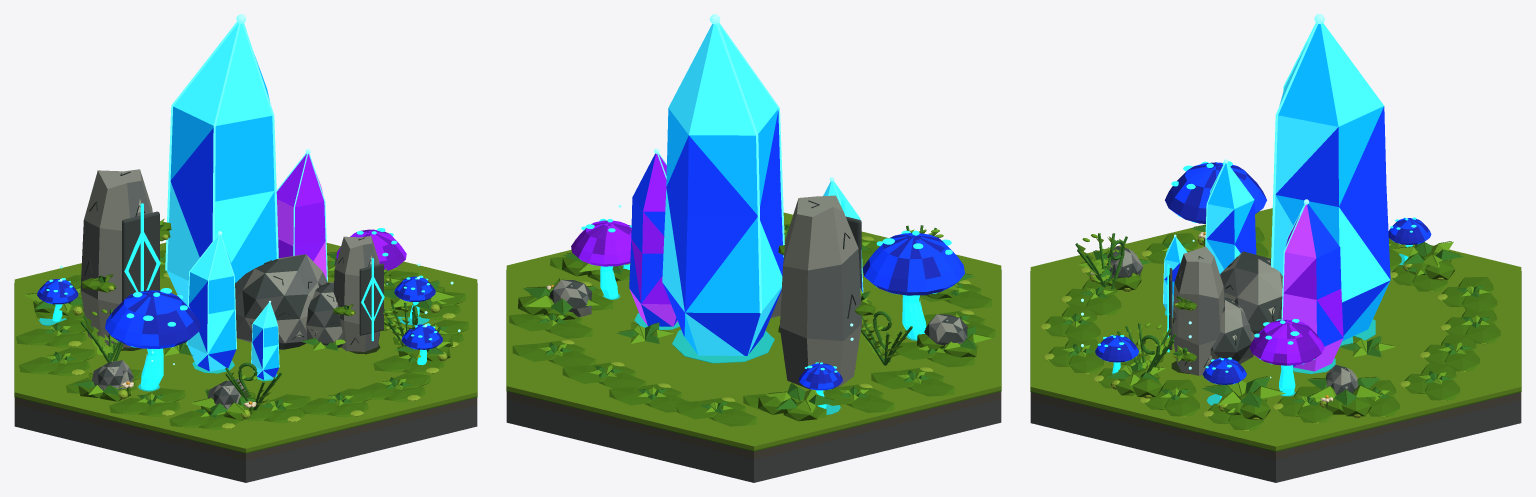
File: hex_crystal_grove.glb
3 renders of one model, left to right at view 1: azimuth 30°, elevation 25°; view 2: azimuth 150°, elevation 25°; view 3: azimuth 270°, elevation 25°, orthographic. The views are drawn at different scales.
Parts seen in each view (by area): view 1: Standard hex meadow top.001, Faceted magical crystal.001, Standard hex stone foundation.001, Weathered shrine monolith.001, Angular mossy forest boulder.001, Faceted magical crystal.002, Faceted magical crystal.004, Broad faceted mushroom cap.001, Standard hex earth layer.001, Weathered shrine monolith.002, Flat engraved rune face.001, Angular mossy forest boulder.002 (+18 smaller); view 2: Standard hex meadow top.001, Faceted magical crystal.001, Weathered shrine monolith.001, Standard hex stone foundation.001, Faceted magical crystal.004, Broad faceted mushroom cap.001, Standard hex earth layer.001, Broad faceted mushroom cap.003, Crystal ground reflection.001, Angular mossy forest boulder.004, Angular mossy forest boulder.003, Broad faceted mushroom cap.005 (+15 smaller); view 3: Standard hex meadow top.001, Faceted magical crystal.001, Standard hex stone foundation.001, Faceted magical crystal.004, Weathered shrine monolith.002, Standard hex earth layer.001, Faceted magical crystal.002, Angular mossy forest boulder.001, Broad faceted mushroom cap.001, Broad faceted mushroom cap.003, Angular mossy forest boulder.002, Broad faceted mushroom cap.007 (+16 smaller).
Boxes of the visible parts, box(x1,y1,x2,y2) form: Standard hex meadow top.001: box(14, 242, 477, 452); Faceted magical crystal.001: box(167, 23, 276, 305); Standard hex stone foundation.001: box(14, 405, 477, 482); Weathered shrine monolith.001: box(80, 169, 152, 347); Angular mossy forest boulder.001: box(235, 254, 327, 349); Faceted magical crystal.002: box(187, 235, 236, 371); Faceted magical crystal.004: box(276, 154, 326, 279); Broad faceted mushroom cap.001: box(105, 290, 200, 348); Standard hex earth layer.001: box(14, 397, 477, 460); Weathered shrine monolith.002: box(333, 236, 380, 351); Flat engraved rune face.001: box(122, 211, 159, 301); Angular mossy forest boulder.002: box(306, 282, 342, 347); Standard hex meadow top.001: box(506, 212, 1001, 450); Faceted magical crystal.001: box(662, 24, 783, 355); Weathered shrine monolith.001: box(779, 195, 861, 389); Standard hex stone foundation.001: box(506, 399, 1001, 482); Faceted magical crystal.004: box(629, 153, 677, 326); Broad faceted mushroom cap.001: box(862, 233, 964, 295); Standard hex earth layer.001: box(506, 391, 1001, 459); Broad faceted mushroom cap.003: box(571, 220, 631, 266); Crystal ground reflection.001: box(672, 330, 774, 363); Angular mossy forest boulder.004: box(549, 279, 591, 317); Angular mossy forest boulder.003: box(924, 314, 967, 347); Broad faceted mushroom cap.005: box(798, 363, 842, 390); Standard hex meadow top.001: box(1030, 208, 1521, 450); Faceted magical crystal.001: box(1273, 23, 1390, 341); Standard hex stone foundation.001: box(1030, 400, 1521, 482); Faceted magical crystal.004: box(1282, 204, 1343, 371); Weathered shrine monolith.002: box(1172, 246, 1224, 375); Standard hex earth layer.001: box(1030, 392, 1521, 459); Faceted magical crystal.002: box(1206, 163, 1256, 274); Angular mossy forest boulder.001: box(1220, 251, 1282, 334); Broad faceted mushroom cap.001: box(1165, 162, 1266, 223); Broad faceted mushroom cap.003: box(1249, 319, 1324, 365); Angular mossy forest boulder.002: box(1210, 297, 1254, 363); Broad faceted mushroom cap.007: box(1202, 358, 1246, 384).
Bounding box in the file's own units: 5.11 × 3.55 × 4.42.
